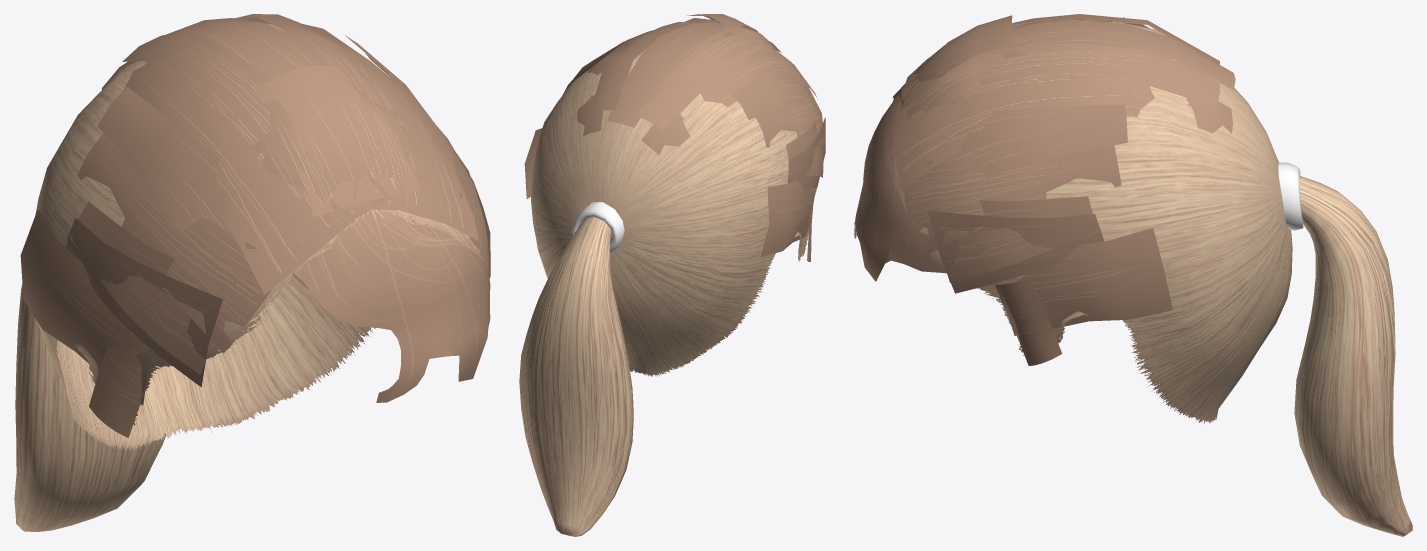
The model's file is hair_001.obj.
The picture shows the model from 3 angles, left to right: view 1: azimuth 30°, elevation 25°; view 2: azimuth 150°, elevation 25°; view 3: azimuth 270°, elevation 25°; orthographic projection. The views are drawn at different scales.
Bounding box in the file's own units: 17.41 × 26.88 × 26.24.
